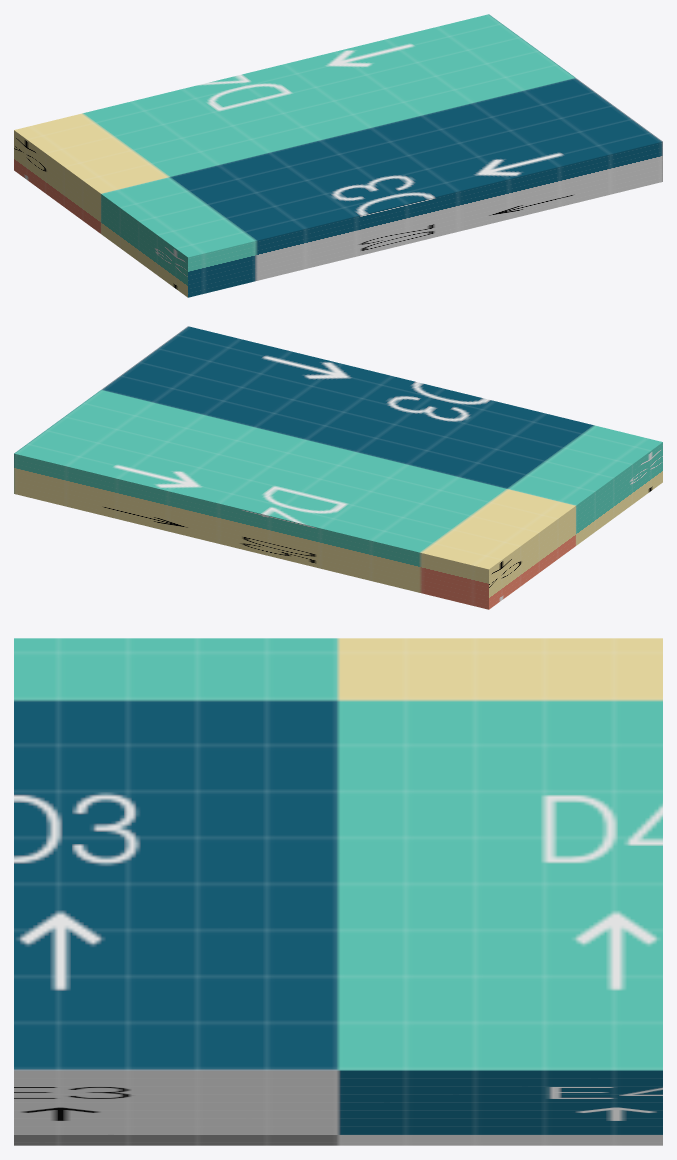
Rendered from diploma_bot.glb.
The picture shows the model from 3 angles, top to bottom: view 1: azimuth 30°, elevation 25°; view 2: azimuth 150°, elevation 25°; view 3: azimuth 270°, elevation 25°; orthographic projection. The views are drawn at different scales.
Parts seen in each view (by area): view 1: col_diploma_bot; view 2: col_diploma_bot; view 3: col_diploma_bot.
Boxes of the visible parts, left/top/right/bottom form: col_diploma_bot: left=14, top=14, right=662, bottom=297; col_diploma_bot: left=14, top=326, right=662, bottom=609; col_diploma_bot: left=14, top=638, right=662, bottom=1145.
Bounding box in the file's own units: 0.7376 × 0.0598 × 0.468.
Materials: 1 (1 with a texture image).
